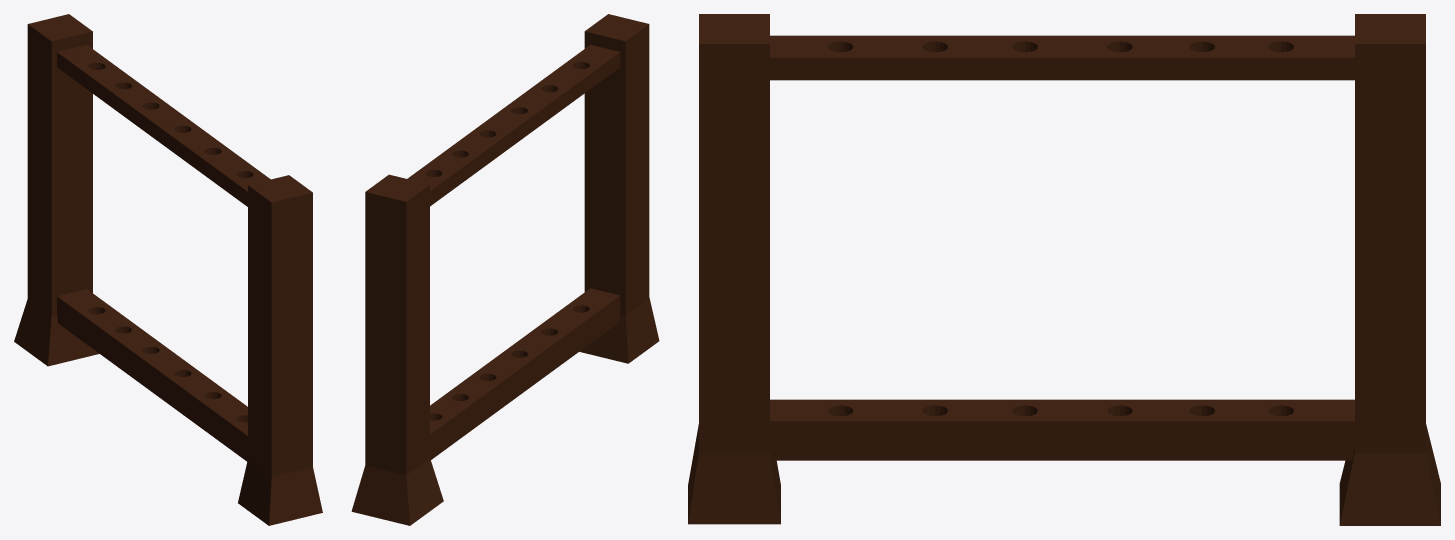
Rendered from Speer Ständer Ver 1.fbx.
3 renders of one model, left to right at view 1: azimuth 30°, elevation 25°; view 2: azimuth 150°, elevation 25°; view 3: azimuth 270°, elevation 25°, orthographic. The views are drawn at different scales.
Parts seen in each view (by area): view 1: Speer Ständer Ver 1; view 2: Speer Ständer Ver 1; view 3: Speer Ständer Ver 1.
Part boxes in pixels (x1,y1,x2,y2): Speer Ständer Ver 1: (14,14,322,525); Speer Ständer Ver 1: (351,14,659,525); Speer Ständer Ver 1: (688,14,1440,525).
Size of the model in its own units: 16.86 by 87.49 by 126.
